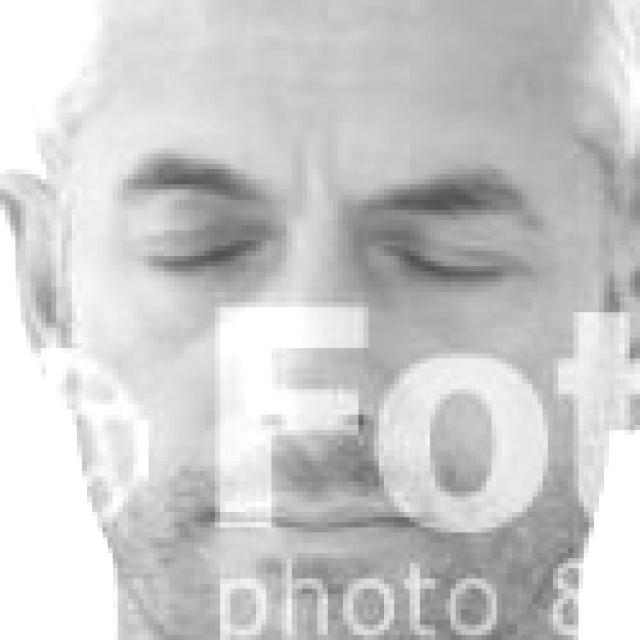real: (56, 2, 588, 616), (132, 202, 532, 298)
